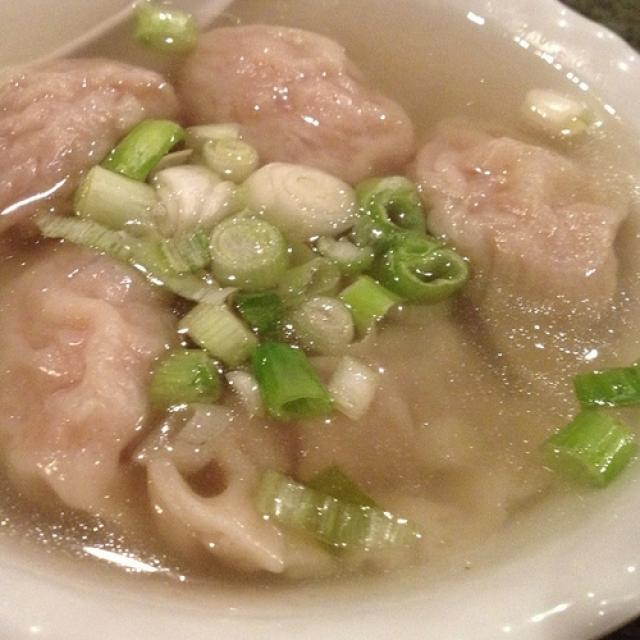汤锅炖物: (11, 10, 617, 594)
